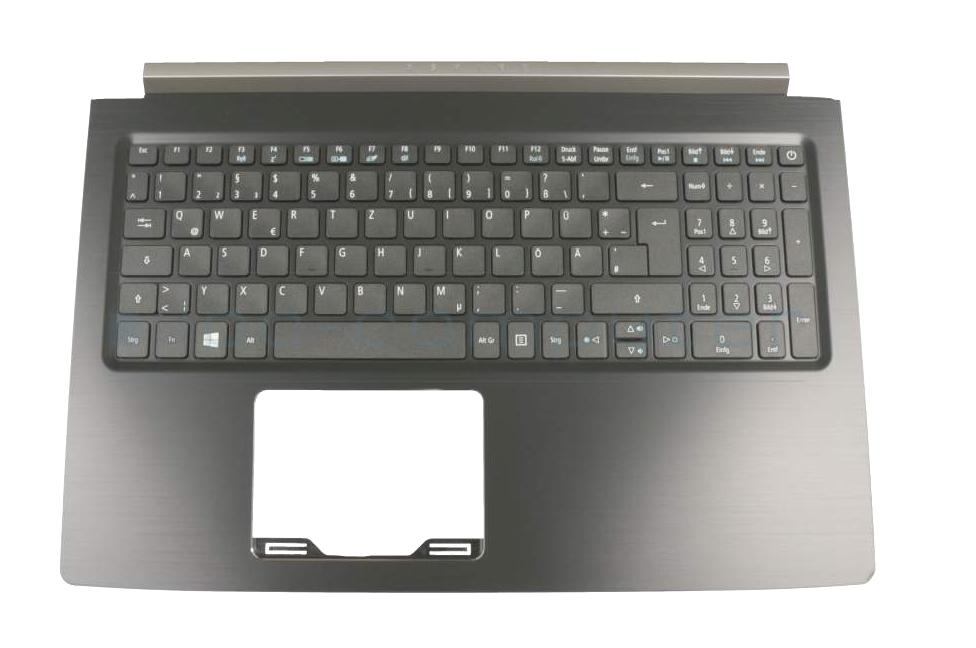0: (497, 169, 532, 201)
1: (153, 170, 185, 201)
2: (191, 170, 223, 201)
3: (228, 169, 262, 201)
4: (266, 168, 300, 201)
5: (305, 169, 339, 201)
6: (343, 169, 377, 201)
7: (383, 169, 416, 201)
8: (421, 169, 455, 201)
9: (460, 169, 493, 201)
a: (177, 243, 211, 276)
accent: (576, 169, 609, 201)
ae: (568, 244, 602, 276)
alt-left: (233, 320, 267, 359)
altgr-right: (471, 320, 501, 359)
b: (352, 282, 386, 315)
c: (274, 282, 307, 314)
caret: (124, 169, 148, 201)
comma: (471, 282, 505, 315)
d: (255, 244, 288, 276)
del: (614, 169, 677, 201)
e: (247, 206, 280, 239)
enter: (637, 205, 681, 275)
f: (294, 243, 327, 276)
g: (333, 244, 366, 276)
h: (372, 244, 406, 276)
hash: (607, 243, 646, 276)
i: (441, 206, 475, 238)
j: (411, 243, 445, 276)
k: (451, 243, 485, 276)
keyboard: (103, 133, 834, 371)
l: (490, 243, 524, 276)
less: (157, 281, 190, 315)
m: (431, 282, 466, 315)
minus: (550, 282, 584, 315)
n: (391, 282, 426, 315)
o: (480, 206, 514, 238)
oe: (529, 243, 563, 276)
p: (519, 206, 552, 238)
plus: (596, 206, 630, 239)
point: (510, 282, 545, 315)
q: (169, 206, 204, 238)
r: (286, 206, 319, 238)
s: (215, 243, 249, 276)
shift-left: (118, 281, 155, 313)
shift-lock: (120, 244, 172, 276)
shift-right: (589, 282, 683, 313)
space: (272, 320, 465, 358)
ss: (537, 169, 570, 201)
strg-left: (115, 318, 150, 359)
strg-right: (540, 320, 570, 360)
t: (324, 206, 357, 238)
tab: (122, 206, 166, 238)
u: (402, 206, 435, 238)
ue: (557, 206, 591, 238)
v: (313, 281, 347, 315)
w: (208, 206, 241, 237)
x: (233, 282, 268, 314)
y: (194, 282, 229, 315)
z: (363, 206, 397, 238)
